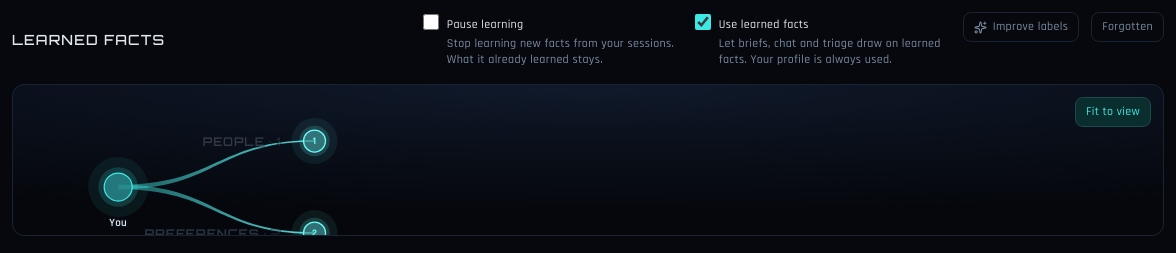
Test case: TwinMemoryGraph — label backfill trigger › says so when the pause gate skipped it, instead of looking like a dead button
The image size is (1176, 253).
Click the button "Improve labels" at (1021, 27), box [963, 12, 1079, 42]
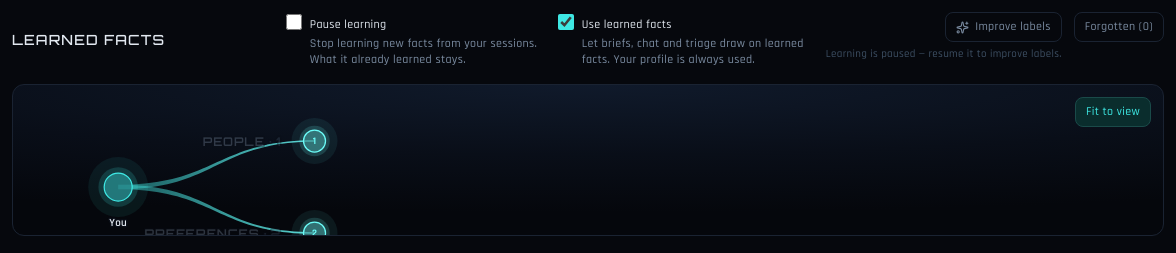
Result: the text "Learning is paused — resume it to improve labels." is shown at [826, 46, 1062, 62]
